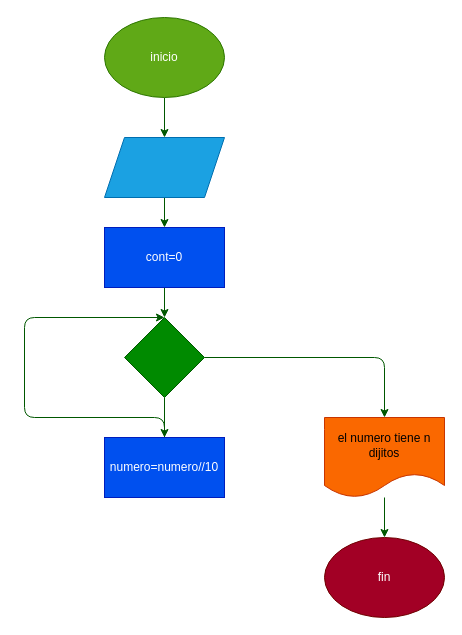
This 462x635 diagram has some shape labels left out. The centre of each missing label's shape, as x and y in pixels:
ingrea el numero: the point at 164,167
numero>0: the point at 164,357
